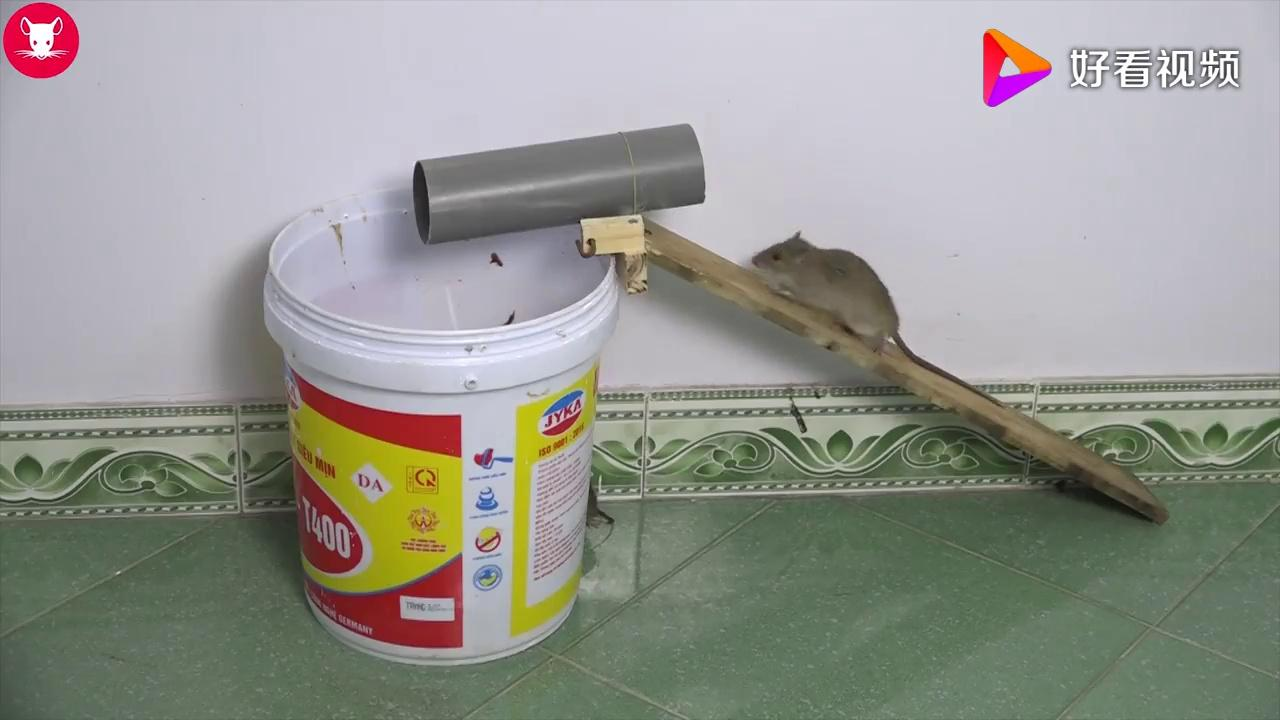rat: (743, 216, 1000, 405)
